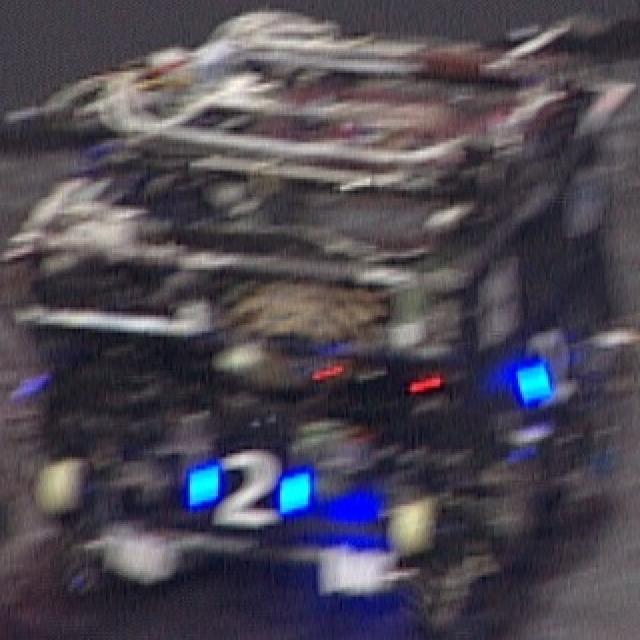B2: (183, 445, 309, 530), (518, 323, 582, 410)
